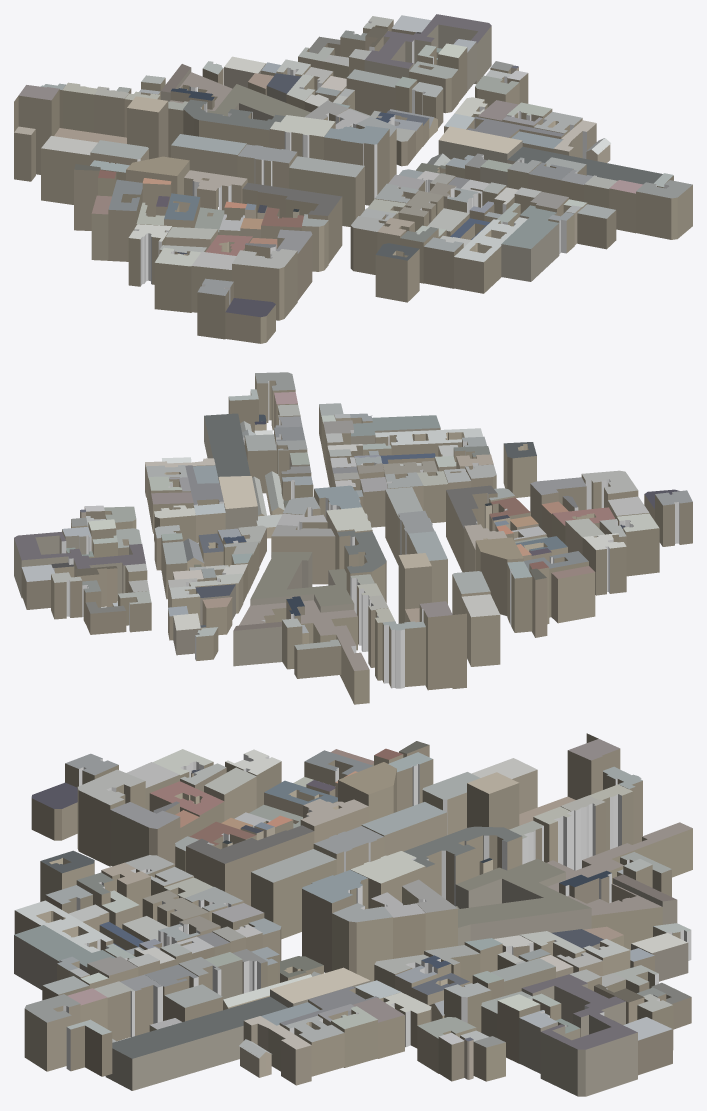
3 renders of one model, top to bottom at view 1: azimuth 30°, elevation 25°; view 2: azimuth 150°, elevation 25°; view 3: azimuth 270°, elevation 25°, orthographic. The views are drawn at different scales.
Parts seen in each view (by area): view 1: tuile; view 2: tuile; view 3: tuile.
Part boxes in pixels (box(x1,y1,x2,y2)): tuile: box(14, 14, 692, 343); tuile: box(14, 372, 692, 704); tuile: box(14, 733, 692, 1096).
Bounding box in the file's own units: 270 × 43.29 × 267.
